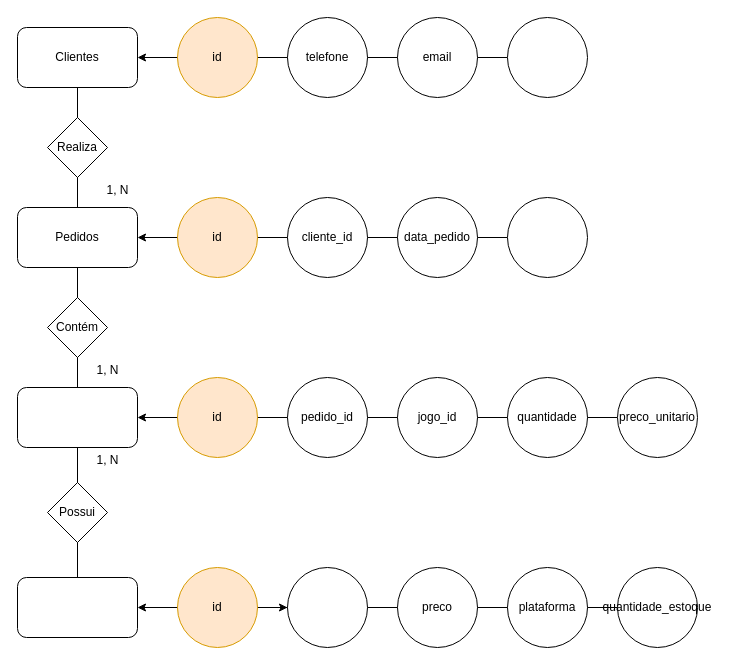
Image size: 729x665. Some labels were removed from this diagram. The centre of each missing label's shape, as x and y in pixels:
"ItensPedido" goes at pixel 77 417.
"Jogos" goes at pixel 77 607.
"nome" goes at pixel 547 57.
"titulo" goes at pixel 327 607.
"valor_total" goes at pixel 547 237.
